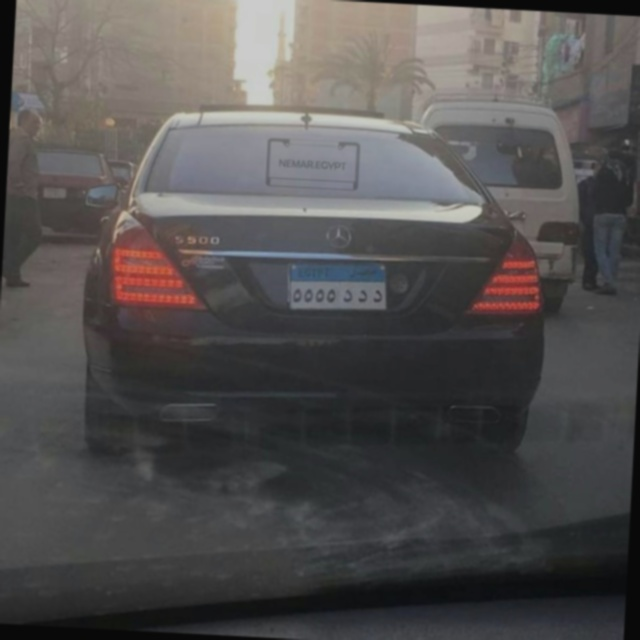License Plate: (284, 255, 393, 317)
